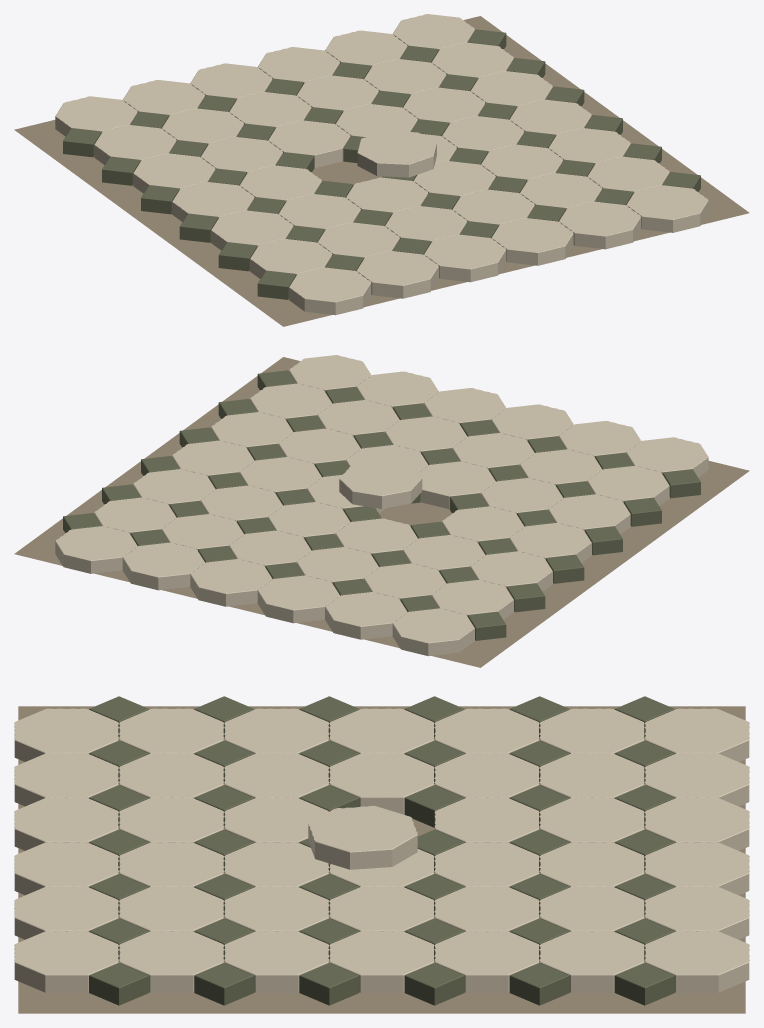
File: terilgan.glb
3 renders of one model, top to bottom at view 1: azimuth 30°, elevation 25°; view 2: azimuth 150°, elevation 25°; view 3: azimuth 270°, elevation 25°, orthographic. The views are drawn at different scales.
Parts seen in each view (by area): view 1: qum, t, t.020, t.004, t.001, t.005, t.003, t.002, t.026, t.012, t.024, t.036 (+43 smaller); view 2: qum, t.020, t.036, t.040, t.037, t.041, t.039, t.038, t.014, t.012, t.024, t (+44 smaller); view 3: qum, t.020, t.005, t.041, t.011, t.035, t.017, t.029, t.023, t.019, t.002, t.038 (+72 smaller).
Part boxes in pixels (x1,y1,x2,y2): qum: (14, 16, 749, 326); t: (289, 267, 371, 315); t.020: (357, 131, 436, 177); t.004: (559, 201, 641, 249); t.001: (356, 251, 438, 298); t.005: (626, 185, 708, 232); t.003: (491, 218, 573, 265); t.002: (424, 234, 506, 282); t.026: (268, 120, 350, 168); t.012: (211, 210, 293, 250); t.024: (133, 153, 215, 193); t.036: (55, 96, 137, 136); qum: (14, 357, 749, 667); t.020: (339, 461, 422, 508); t.036: (392, 608, 474, 656); t.040: (122, 542, 204, 590); t.037: (325, 592, 407, 639); t.041: (55, 526, 137, 573); t.039: (190, 559, 272, 606); t.038: (257, 575, 339, 623); t.014: (417, 461, 495, 509); t.012: (548, 494, 630, 534); t.024: (470, 551, 552, 591); t: (626, 437, 708, 477); qum: (18, 706, 745, 1013); t.020: (308, 805, 417, 869); t.005: (14, 930, 118, 992); t.041: (645, 930, 749, 992); t.011: (119, 930, 224, 992); t.035: (539, 930, 644, 992); t.017: (224, 930, 329, 992); t.029: (434, 930, 539, 992); t.023: (329, 930, 434, 992); t.019: (329, 753, 434, 814); t.002: (14, 797, 118, 850); t.038: (645, 797, 749, 850).
Size of the model in its own units: 1.66 by 0.092 by 1.68.
